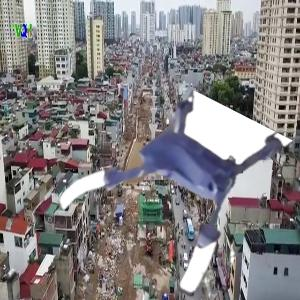drone: (67, 88, 264, 285)
